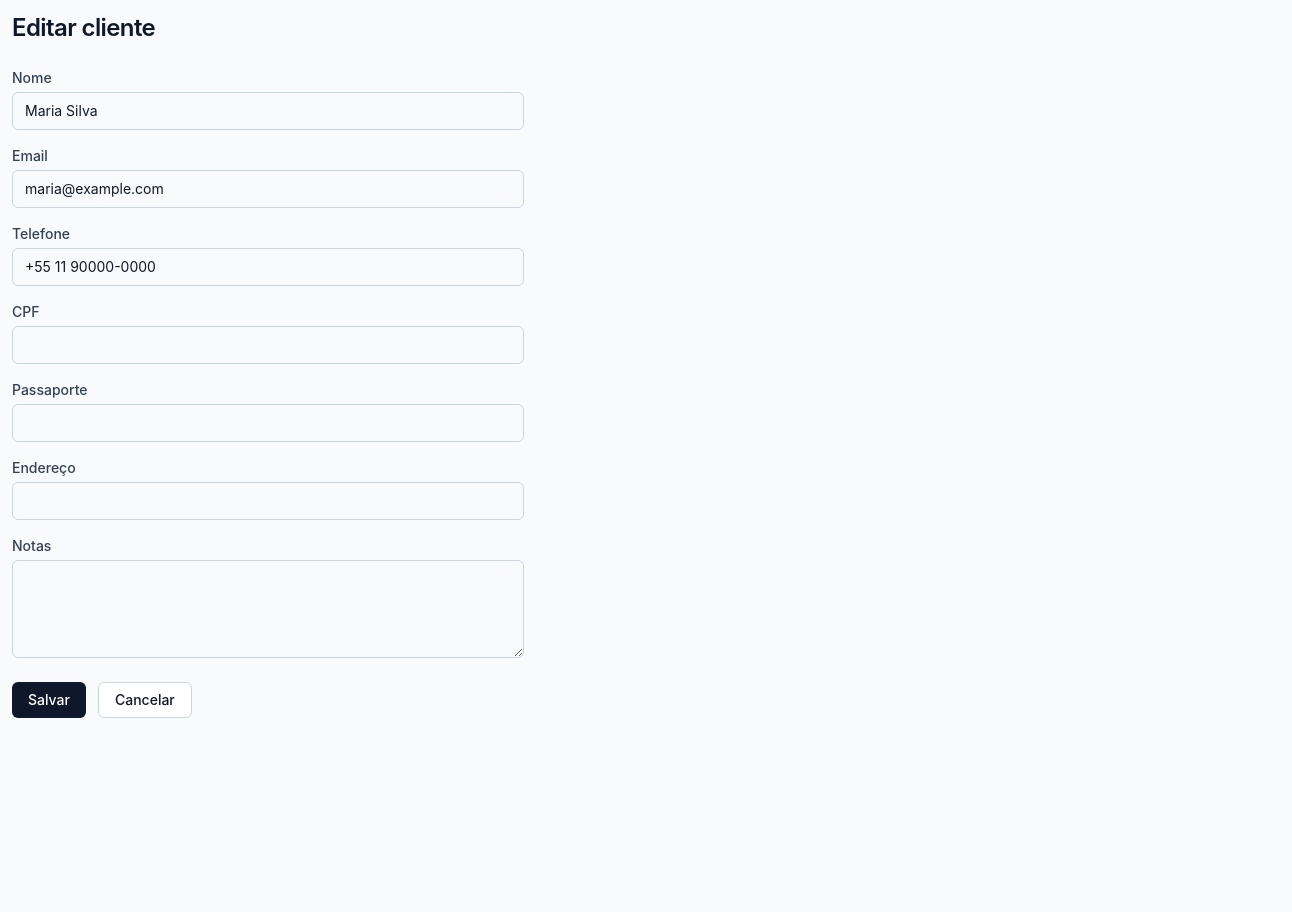
Test case: CustomerEditPage › 403 error shows a safe permission message
This screenshot has width=1292, height=912.
Expected: the field labelled "Nome" is shown, [12,92,524,130]
Click the button "Salvar" at [49, 700], box [12,682,86,718]
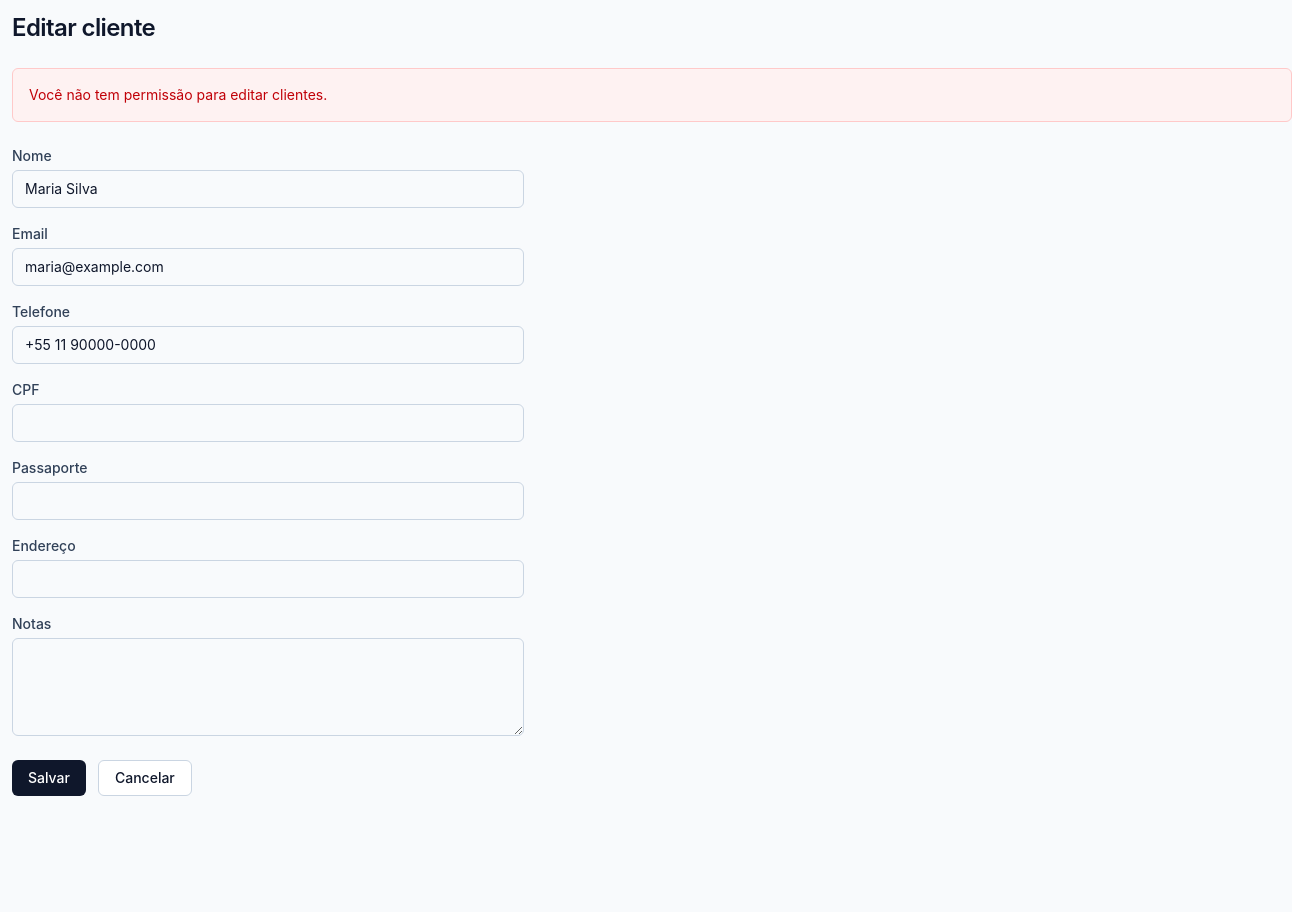
Now the text "Você não tem permissão para editar clientes." is shown, box [12,68,1291,122]
